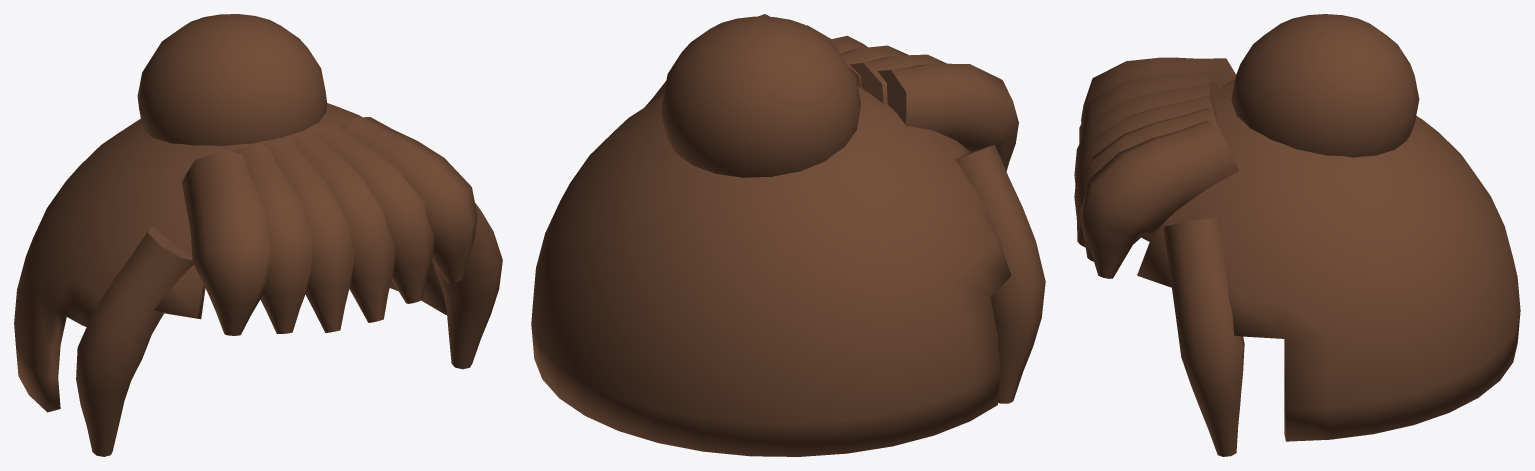
Rendered from hair_bun.glb.
3 views of the same model, side by side, from view 1: azimuth 30°, elevation 25°; view 2: azimuth 150°, elevation 25°; view 3: azimuth 270°, elevation 25° (orthographic). The views are drawn at different scales.
Visible parts, largest first — view 1: lock; view 2: lock; view 3: lock.
Boxes of the visible parts, x1,y1,x2,y2 form: lock: (14,14,502,456); lock: (531,14,1045,456); lock: (1074,14,1520,456).
Size of the model in its own units: 2.31 by 1.86 by 2.18.
